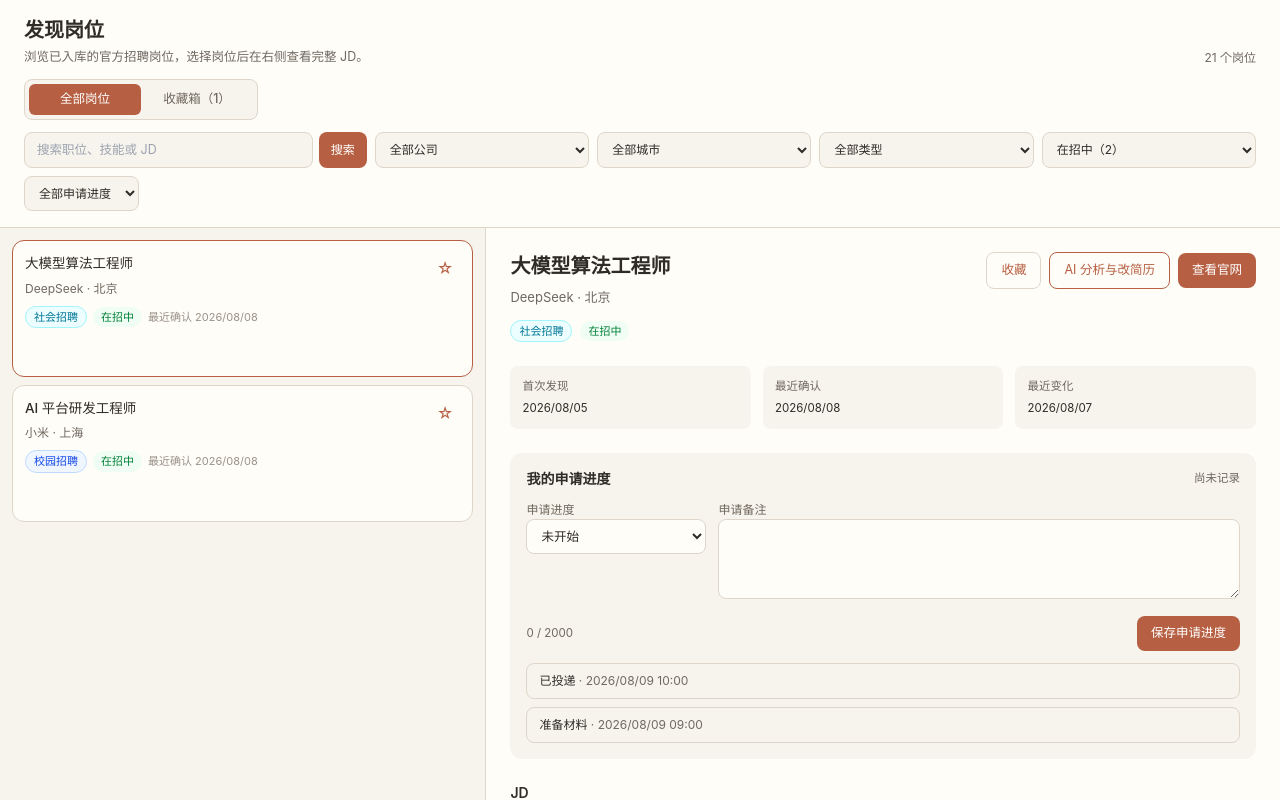
Test: CareerJobsView › refreshes tracking after a version conflict
expect the heading "JD" is shown: met, box [510, 784, 529, 799]
Click the button "保存申请进度". click: (1188, 633)
box: [1137, 616, 1240, 651]
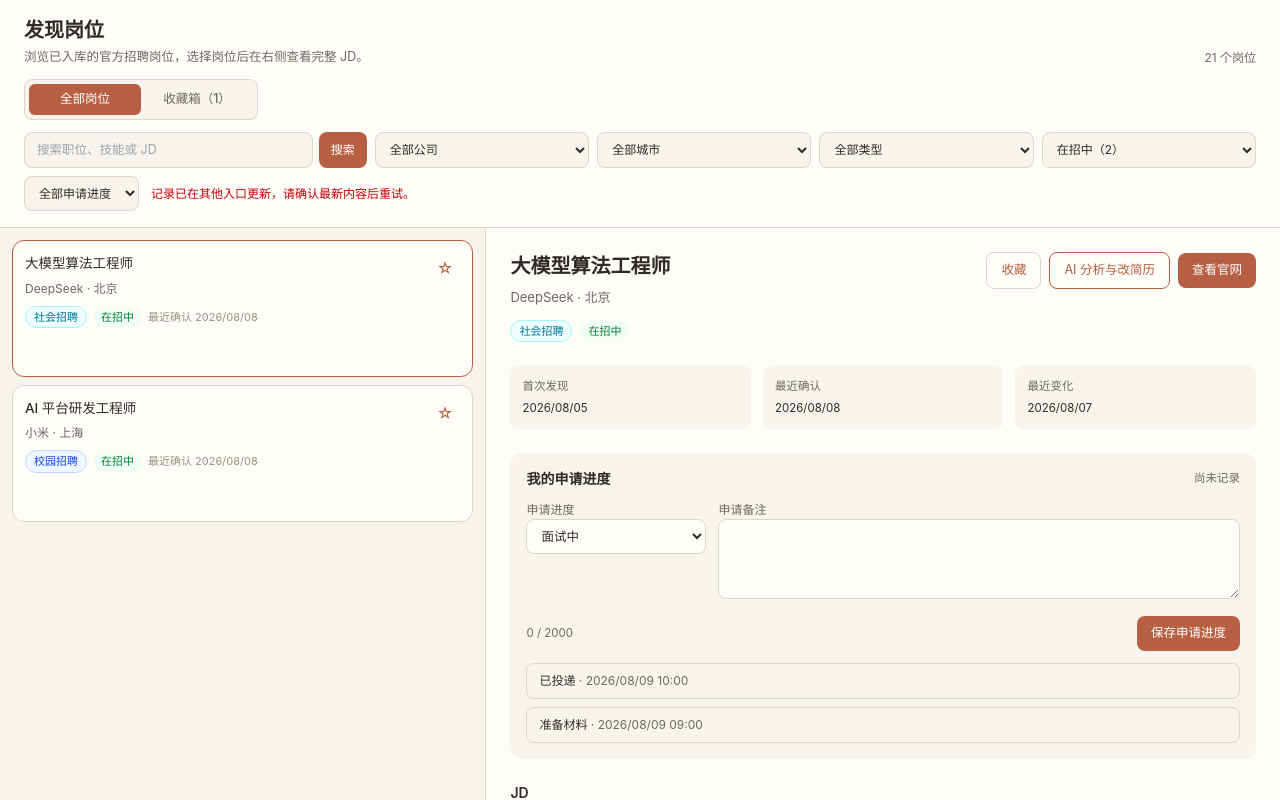
expect the text "记录已在其他入口更新，请确认最新内容后重试。" is shown: met, box [151, 185, 415, 203]
expect the dropdown named "我的申请进度" shows "面试中": met, box [526, 519, 706, 554]
